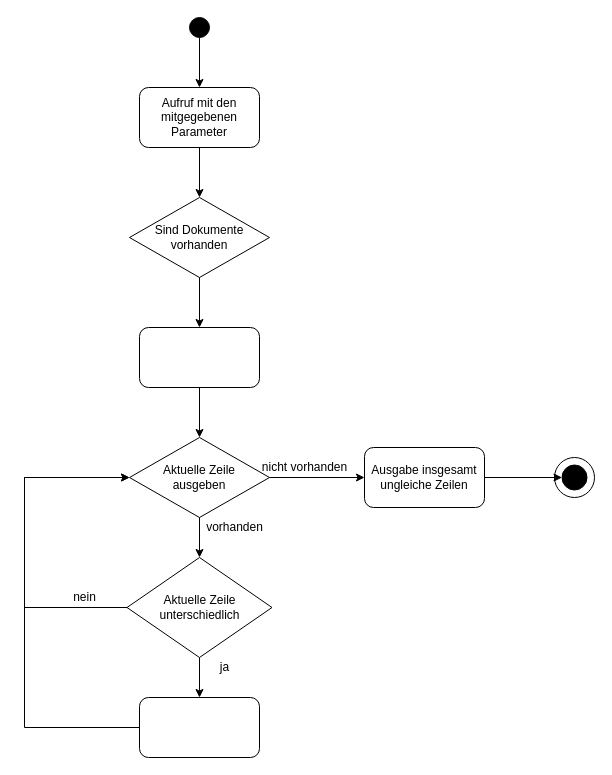
This 612x775 diagram has some shape labels left out. Each missing label, with the centre of its shape:
"Ausgabe Zeile ungleich" belongs at pixel 199 727.
"Welches Dokument ist grösser" belongs at pixel 199 357.
